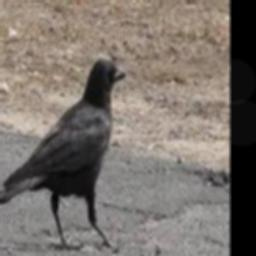Crow: (0, 57, 125, 252)
